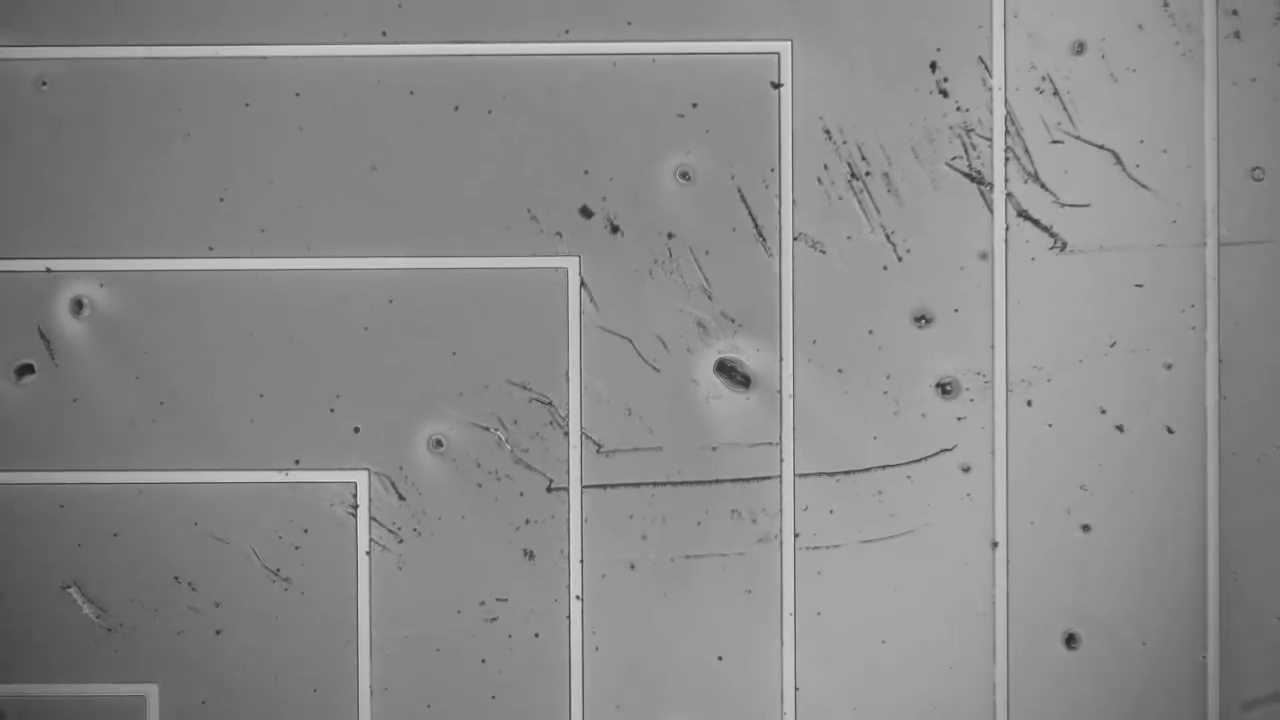scratch: (548, 463, 958, 507)
stains_enbedded: (819, 126, 898, 256), (1079, 125, 1151, 195), (594, 315, 663, 374), (722, 171, 770, 250), (807, 528, 934, 554)
